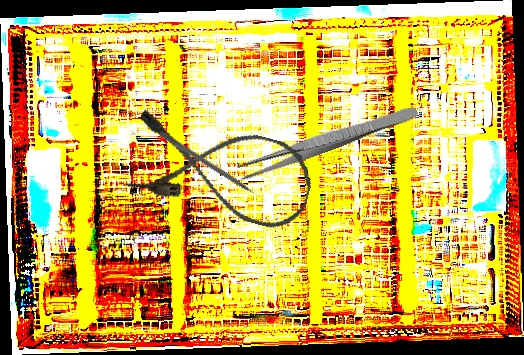Cannula: (121, 104, 321, 236)
Dressing Forceps: (235, 100, 420, 183)
Pusher: (157, 129, 268, 206)
